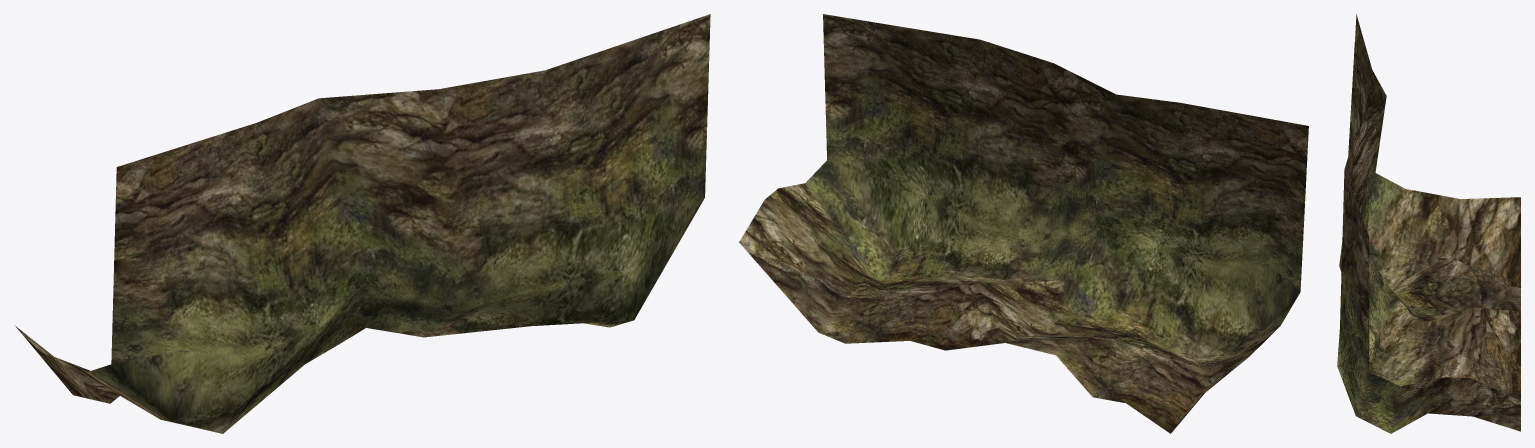
3 views of the same model, side by side, from view 1: azimuth 30°, elevation 25°; view 2: azimuth 150°, elevation 25°; view 3: azimuth 270°, elevation 25° (orthographic). The views are drawn at different scales.
Parts seen in each view (by area): view 1: model_Object75; view 2: model_Object75; view 3: model_Object75.
Boxes of the visible parts, <box> form: model_Object75: <box>15,14,710,433</box>; model_Object75: <box>739,14,1308,433</box>; model_Object75: <box>1337,14,1520,433</box>.
Bounding box in the file's own units: 10.08 × 5.13 × 3.49.
1 material, 1 textured.
